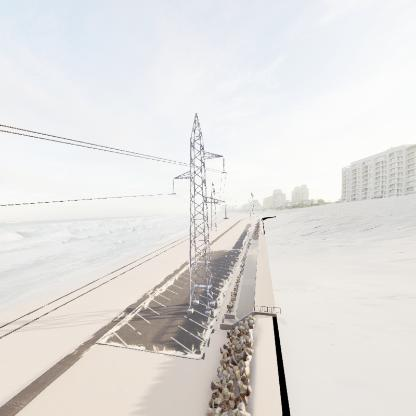tower: (169, 113, 231, 322)
